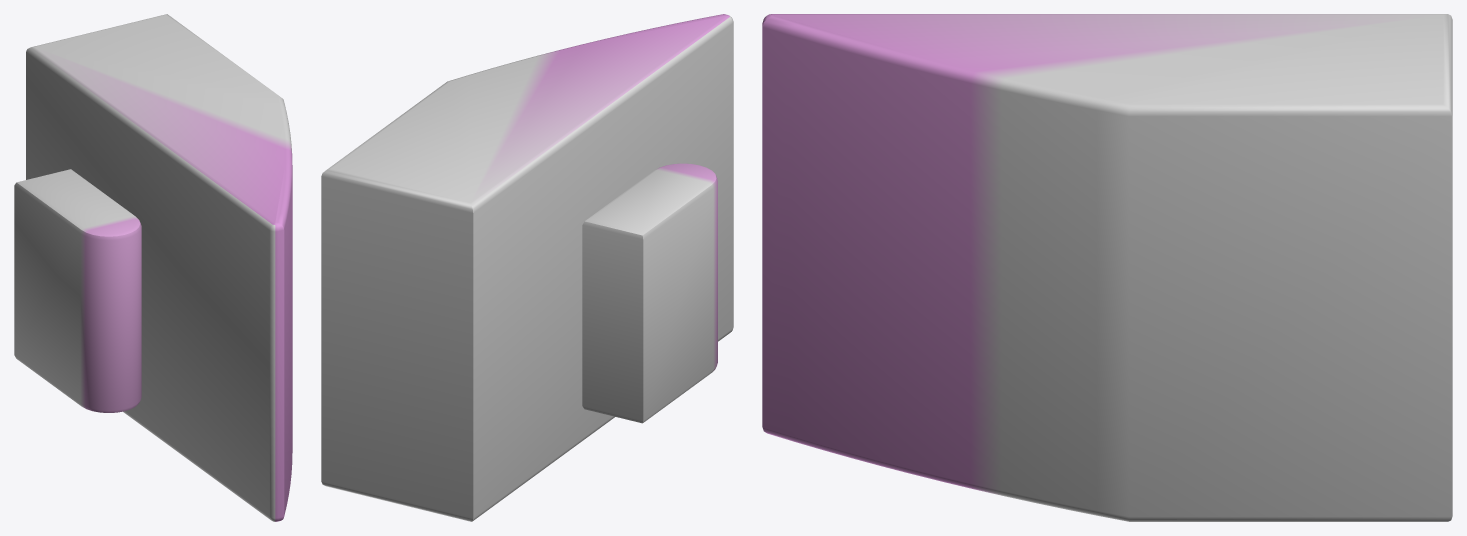
The model's file is Kit_Lock_Latchbolt_Bored.fbx.
The picture shows the model from 3 angles, left to right: view 1: azimuth 30°, elevation 25°; view 2: azimuth 150°, elevation 25°; view 3: azimuth 270°, elevation 25°; orthographic projection. The views are drawn at different scales.
Visible parts, largest first — view 1: Kit_Lock_Latchbolt_Bored_LOD0; view 2: Kit_Lock_Latchbolt_Bored_LOD0; view 3: Kit_Lock_Latchbolt_Bored_LOD0.
Boxes of the visible parts, bbox=[...] form: Kit_Lock_Latchbolt_Bored_LOD0: bbox=[14, 14, 292, 521]; Kit_Lock_Latchbolt_Bored_LOD0: bbox=[321, 14, 733, 521]; Kit_Lock_Latchbolt_Bored_LOD0: bbox=[762, 14, 1452, 521].
Size of what is drawn, in the model's own units: 0.016 by 0.02 by 0.03.
